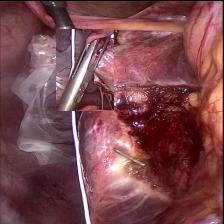Grasper: (56, 28, 114, 110)
Specimen Bag: (8, 28, 76, 172)
